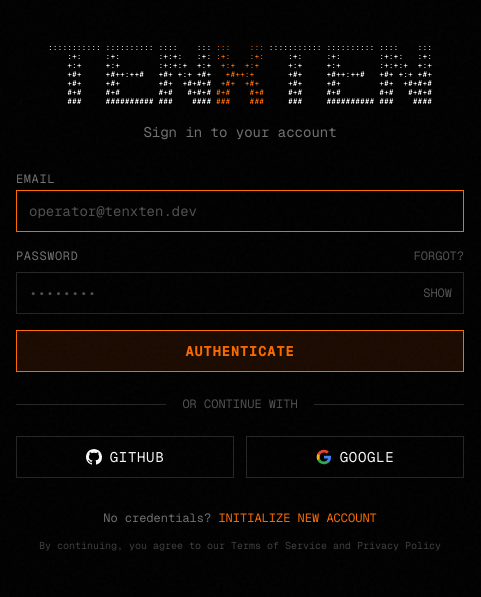
Test case: Login Page › should show error for invalid credentials
In the field labelled "Email": (240, 211) [16,190,464,232], type "test@example.com"
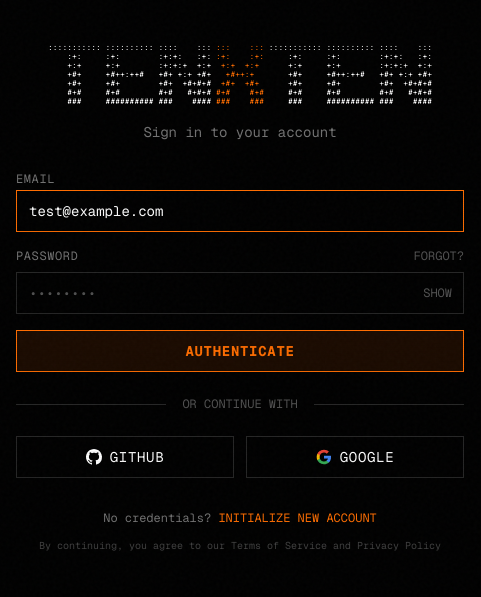
In the password field labelled "Password": (240, 293) [16,272,464,314], type "wrongpassword"
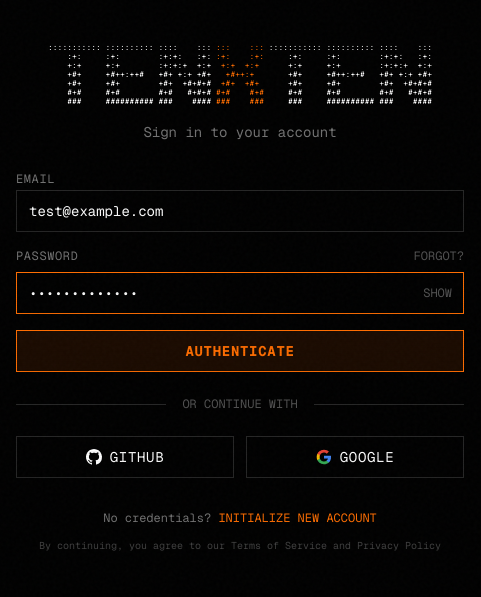
Click the button "AUTHENTICATE": (240, 351) [16,330,464,372]
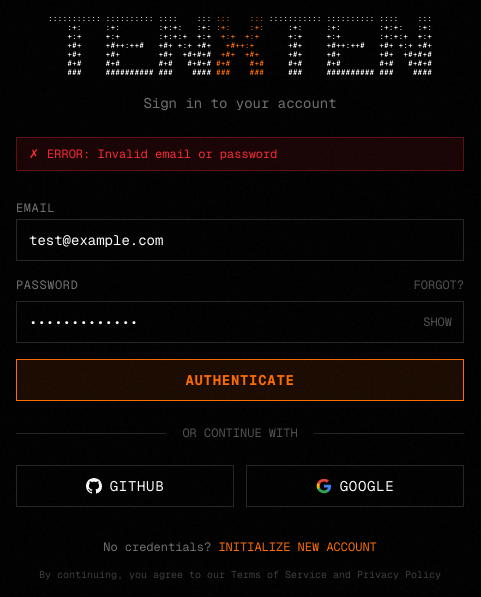
Now the text "✗ERROR: Invalid email or password" is shown, box [16,137,464,171]
